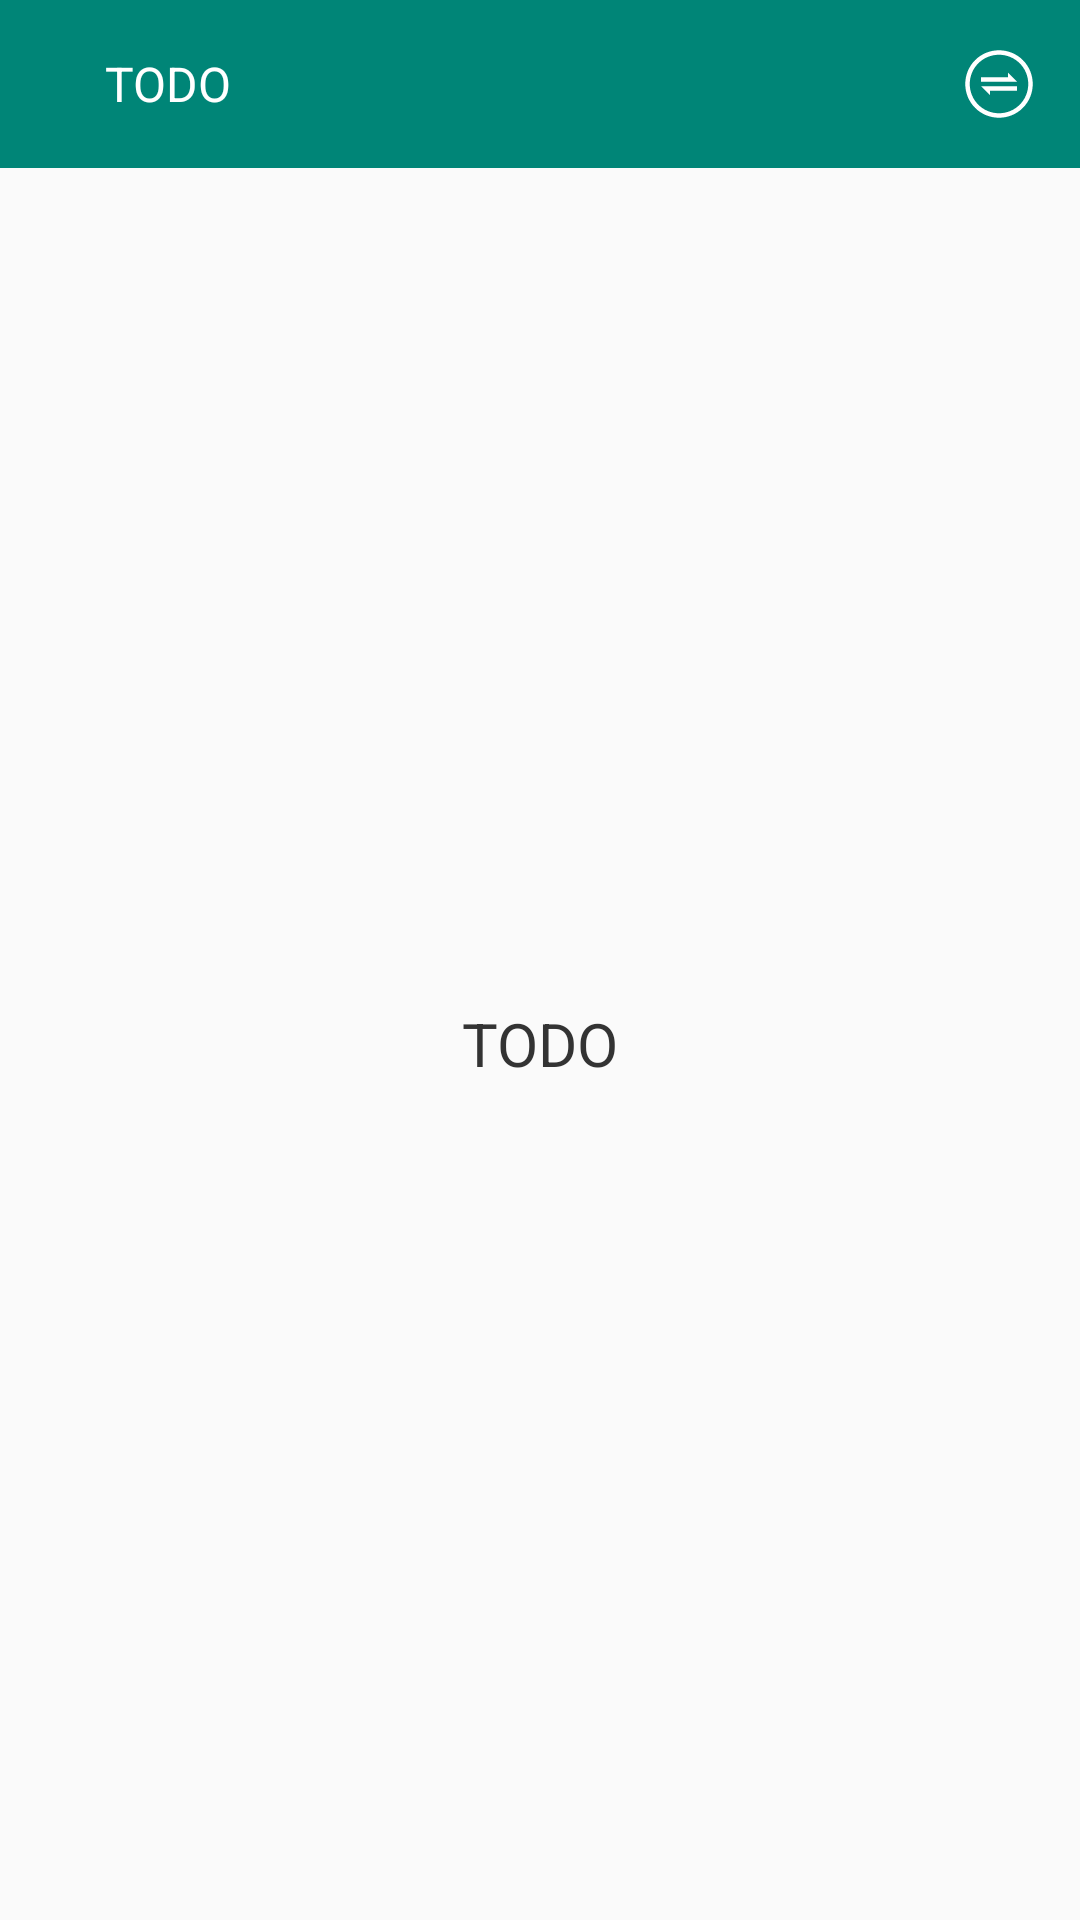

Named icons in this screenshot (1080px×1920px) and their centers, [x,y]:
exchange: [999,84]
